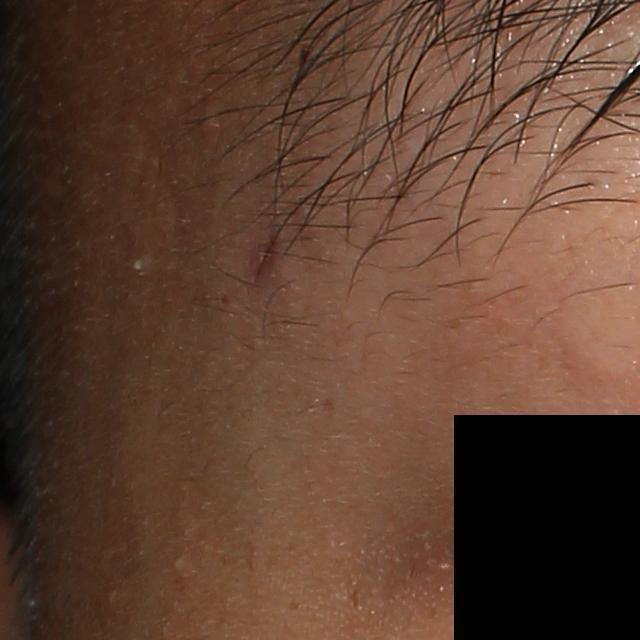comedo: (128, 246, 145, 279), (167, 553, 185, 580)
